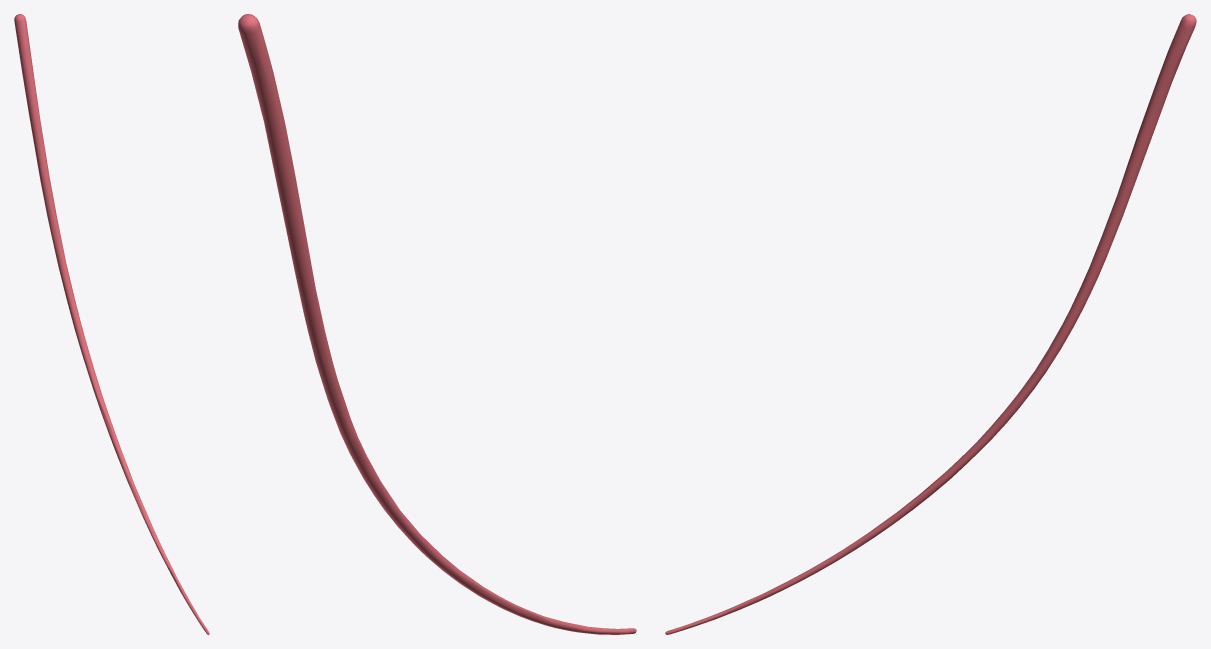
File: fma85116_fj2335.glb
3 renders of one model, left to right at view 1: azimuth 30°, elevation 25°; view 2: azimuth 150°, elevation 25°; view 3: azimuth 270°, elevation 25°, orthographic. The views are drawn at different scales.
Parts seen in each view (by area): view 1: FMA85116_FJ2335; view 2: FMA85116_FJ2335; view 3: FMA85116_FJ2335.
Boxes of the visible parts, x1,y1,x2,y2 form: FMA85116_FJ2335: (14,14,209,634); FMA85116_FJ2335: (238,14,636,634); FMA85116_FJ2335: (665,14,1196,634).
Bounding box in the file's own units: 0.00219 × 0.0642 × 0.0493.
